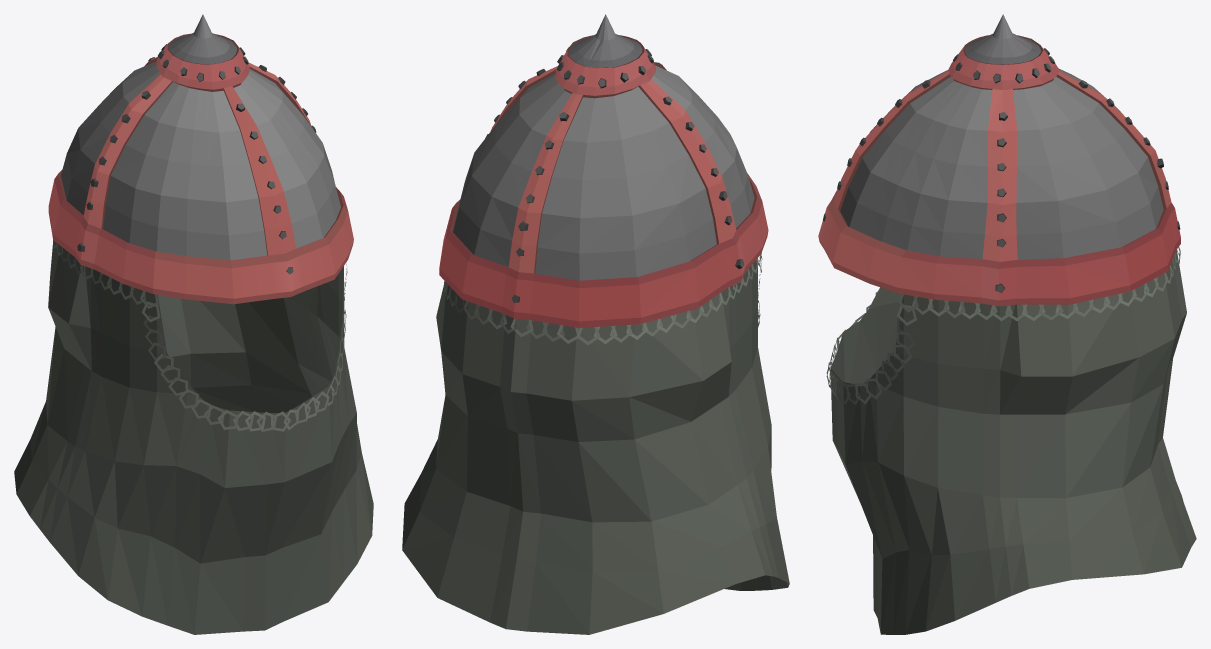
File: slavicHelmet.glb
3 renders of one model, left to right at view 1: azimuth 30°, elevation 25°; view 2: azimuth 150°, elevation 25°; view 3: azimuth 270°, elevation 25°, orthographic. The views are drawn at different scales.
Visible parts, largest first — view 1: slavicHelmet; view 2: slavicHelmet; view 3: slavicHelmet.
Part boxes in pixels (<box>): slavicHelmet: <box>14,14,373,634</box>; slavicHelmet: <box>402,14,789,634</box>; slavicHelmet: <box>818,14,1196,634</box>.
Bounding box in the file's own units: 0.3479 × 0.5908 × 0.3398.
